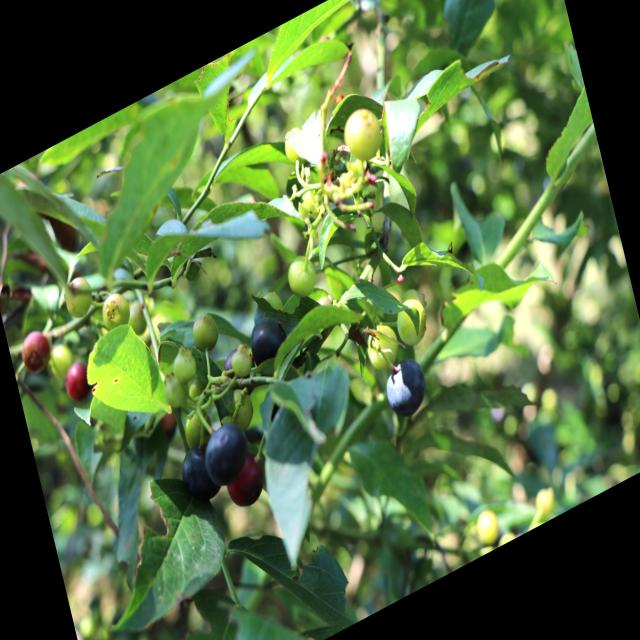blueberry: (199, 417, 251, 492), (175, 434, 224, 510), (382, 354, 431, 424), (246, 307, 291, 382)
blueberry-halfripe: (222, 448, 270, 515), (16, 319, 57, 382), (60, 353, 95, 402)
blueberry-unripe: (340, 99, 387, 169), (58, 269, 100, 330), (392, 294, 432, 352), (363, 318, 401, 375), (283, 248, 321, 304), (97, 287, 133, 337), (225, 383, 258, 436), (189, 309, 222, 358), (182, 406, 210, 449), (160, 372, 188, 414), (226, 341, 254, 380), (170, 346, 197, 386)
